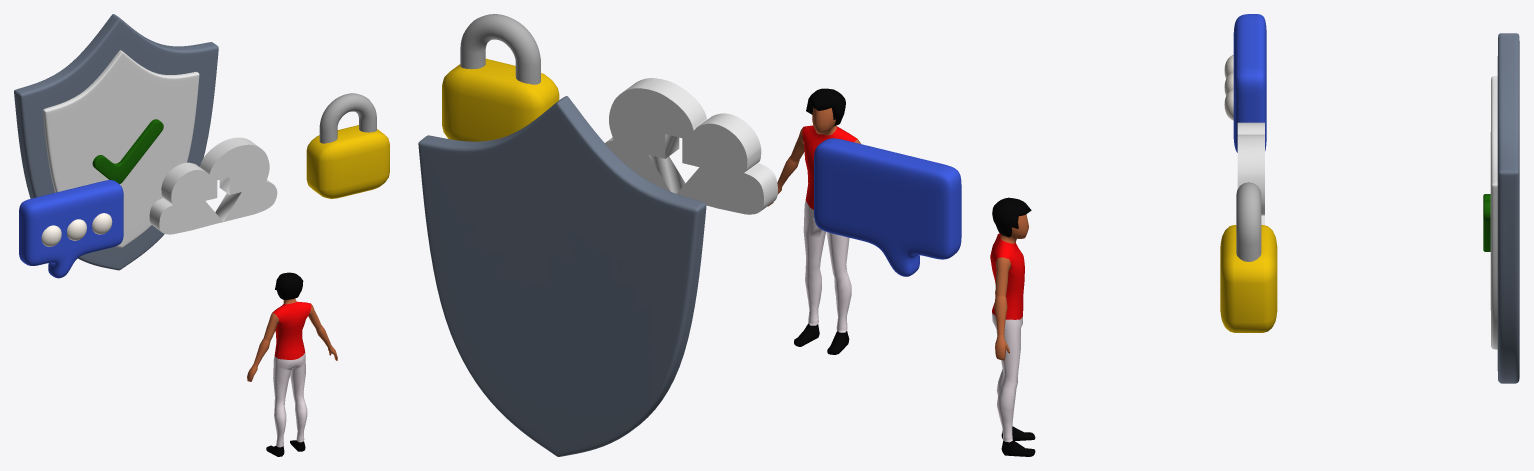
3 renders of one model, left to right at view 1: azimuth 30°, elevation 25°; view 2: azimuth 150°, elevation 25°; view 3: azimuth 270°, elevation 25°, orthographic. The views are drawn at different scales.
Visible parts, largest first — view 1: shield.001_2, shield_1, save__to_cloud, Torus, object 4, corpo.001, Plane.002_0, corpo.002; view 2: shield_1, object 4, save__to_cloud, Torus, corpo.001, corpo.002; view 3: shield_1, Torus, corpo.001, object 4, shield.001_2, save__to_cloud, corpo.002.
Part boxes in pixels (x1=…): shield.001_2: x1=42, y1=50, x2=199, y2=247; shield_1: x1=14, y1=14, x2=218, y2=270; save__to_cloud: x1=149, y1=137, x2=277, y2=234; Torus: x1=306, y1=93, x2=389, y2=198; object 4: x1=19, y1=180, x2=123, y2=278; corpo.001: x1=247, y1=298, x2=337, y2=456; Plane.002_0: x1=92, y1=119, x2=163, y2=183; corpo.002: x1=275, y1=272, x2=303, y2=299; shield_1: x1=418, y1=96, x2=706, y2=456; object 4: x1=814, y1=138, x2=961, y2=276; save__to_cloud: x1=605, y1=78, x2=777, y2=214; Torus: x1=442, y1=14, x2=559, y2=141; corpo.001: x1=768, y1=107, x2=860, y2=354; corpo.002: x1=806, y1=88, x2=845, y2=126; shield_1: x1=1497, y1=33, x2=1519, y2=383; Torus: x1=1220, y1=182, x2=1277, y2=332; corpo.001: x1=990, y1=214, x2=1035, y2=456; object 4: x1=1233, y1=14, x2=1266, y2=152; shield.001_2: x1=1490, y1=76, x2=1497, y2=349; save__to_cloud: x1=1237, y1=122, x2=1264, y2=225; corpo.002: x1=992, y1=197, x2=1031, y2=237.
Size of the model in its own units: 3.1 by 2.48 by 2.85.
